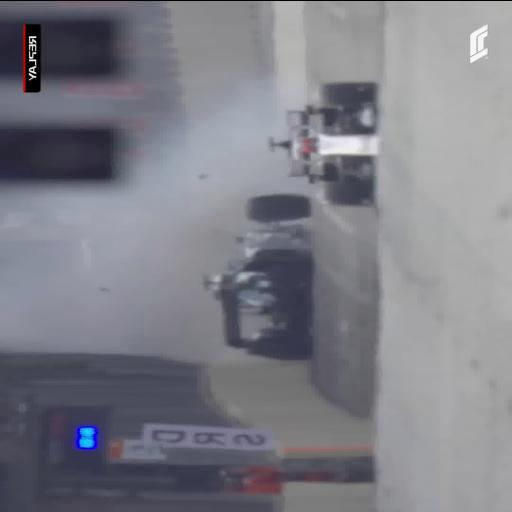f1_car: (204, 193, 312, 359), (269, 81, 378, 205)
